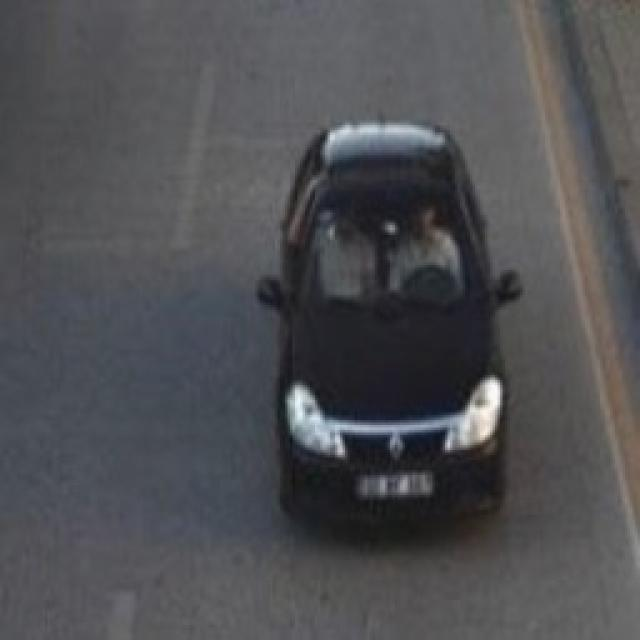windshield: (306, 185, 479, 314)
